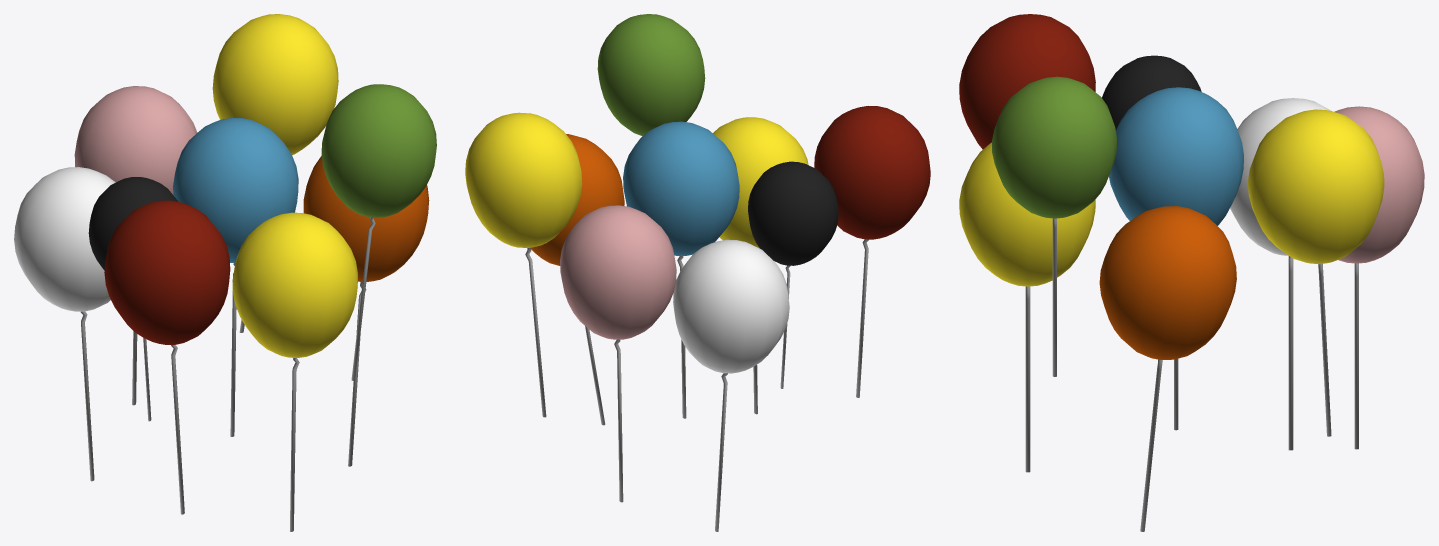
The model's file is Baloons.fbx.
3 views of the same model, side by side, from view 1: azimuth 30°, elevation 25°; view 2: azimuth 150°, elevation 25°; view 3: azimuth 270°, elevation 25° (orthographic). The views are drawn at different scales.
Visible parts, largest first — view 1: balloon.003; view 2: balloon.003; view 3: balloon.003.
Boxes of the visible parts, x1=… form: balloon.003: x1=14, y1=14, x2=436, y2=531; balloon.003: x1=465, y1=14, x2=930, y2=531; balloon.003: x1=959, y1=14, x2=1424, y2=531.
Size of the model in its own units: 5.37 by 5.86 by 5.32.
